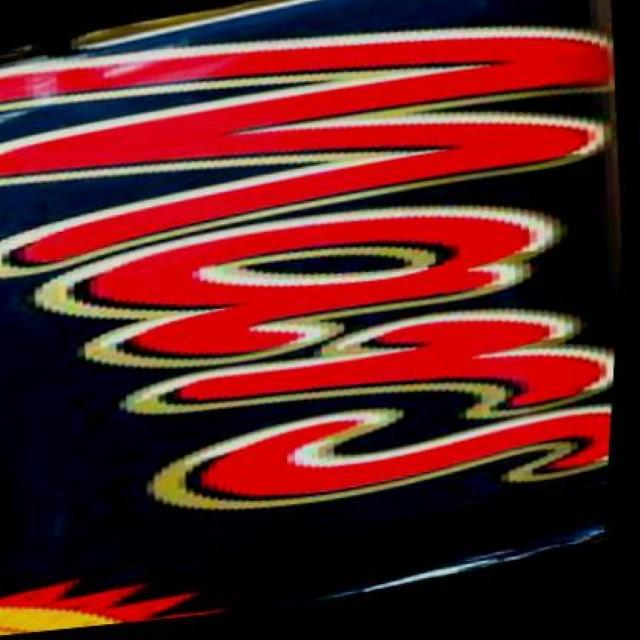mars_chocolate: (13, 26, 640, 639)
